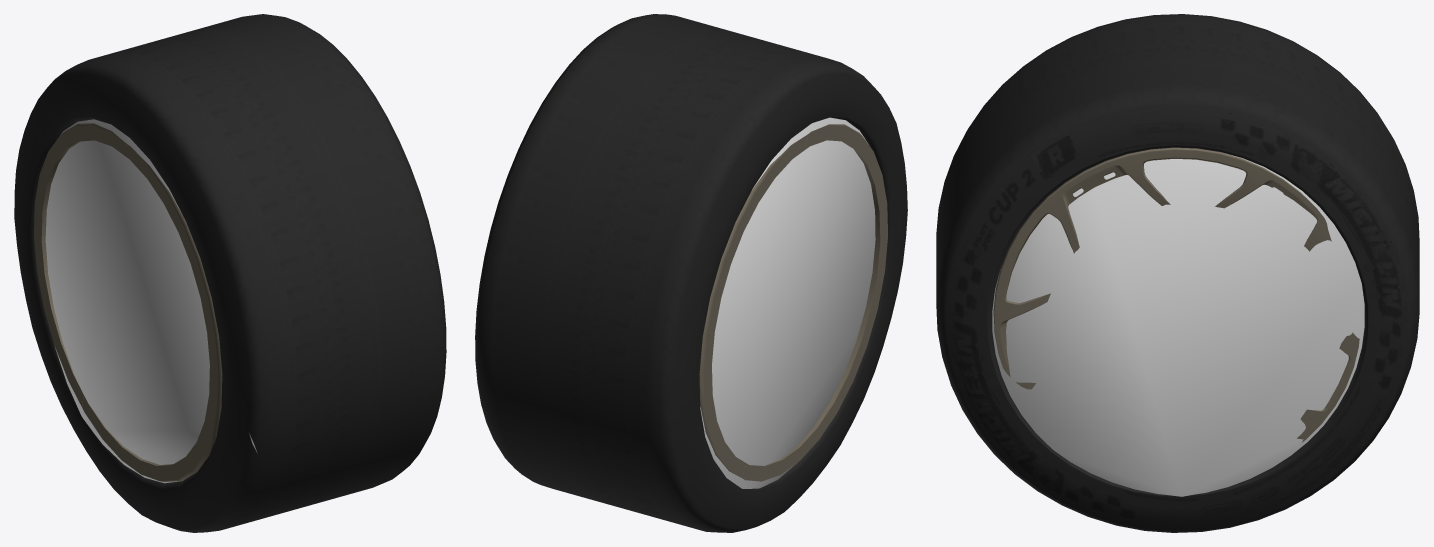
3 renders of one model, left to right at view 1: azimuth 30°, elevation 25°; view 2: azimuth 150°, elevation 25°; view 3: azimuth 270°, elevation 25°, orthographic.
Parts seen in each view (by area): view 1: wheel_stampede_rear_01, wheel_stampede_rear_01_col; view 2: wheel_stampede_rear_01, wheel_stampede_rear_01_col; view 3: wheel_stampede_rear_01, wheel_stampede_rear_01_col.
Part boxes in pixels (<box>): wheel_stampede_rear_01: <box>14,14,446,532</box>; wheel_stampede_rear_01_col: <box>45,119,257,483</box>; wheel_stampede_rear_01: <box>475,14,907,532</box>; wheel_stampede_rear_01_col: <box>700,117,875,488</box>; wheel_stampede_rear_01: <box>936,14,1419,532</box>; wheel_stampede_rear_01_col: <box>992,153,1364,496</box>.
Size of the model in its own units: 0.3777 by 0.7241 by 0.7155.
1 material, 1 textured.
